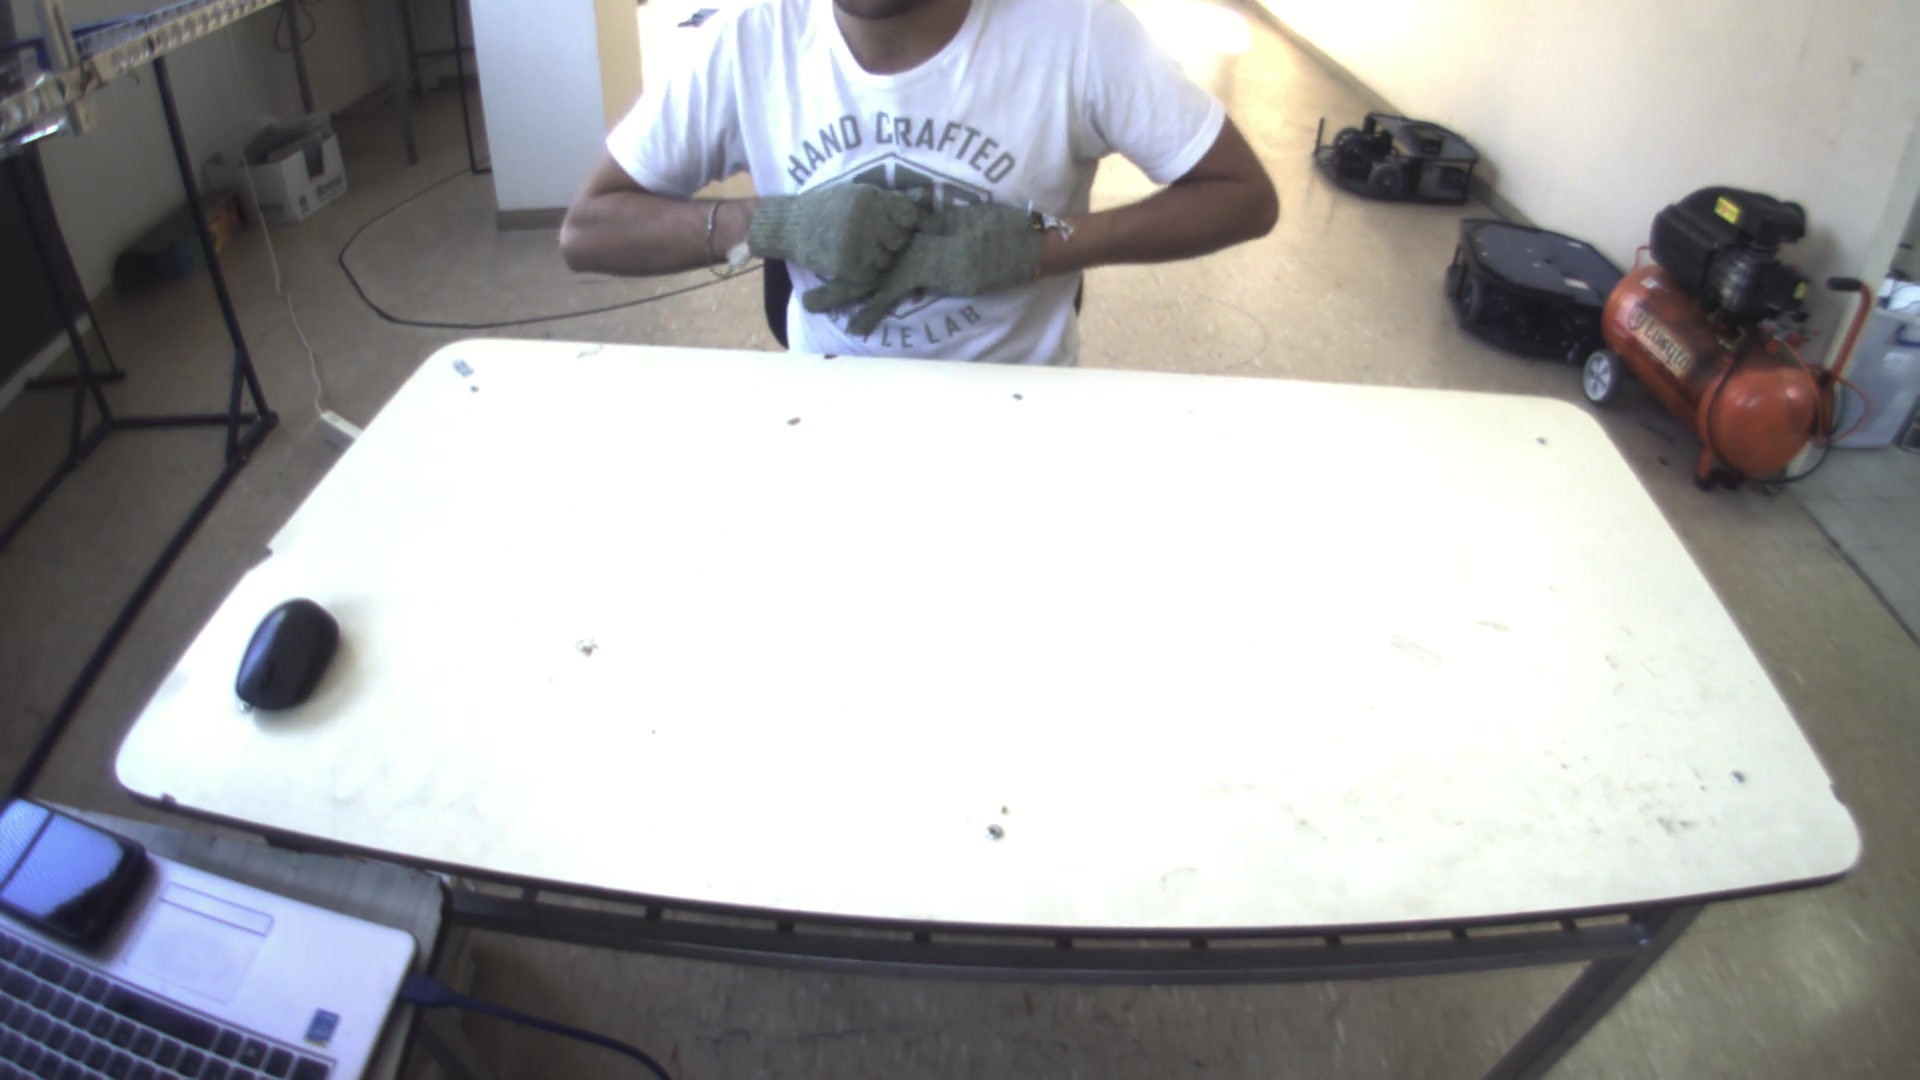hand: (732, 160, 916, 305)
